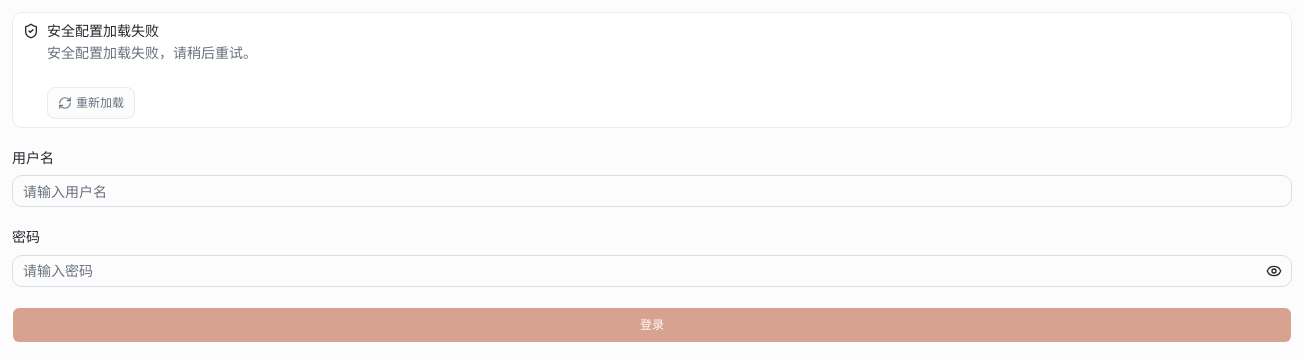
Test: AuthForm › offers a retry after the security config fails to load
Expected: the text "安全配置加载失败" is shown, [47,21,159,40]
Expected: the button "登录" is disabled, [12,306,1292,342]
Click the button "重新加载" at coordinates (91, 103), box [47,87,135,119]
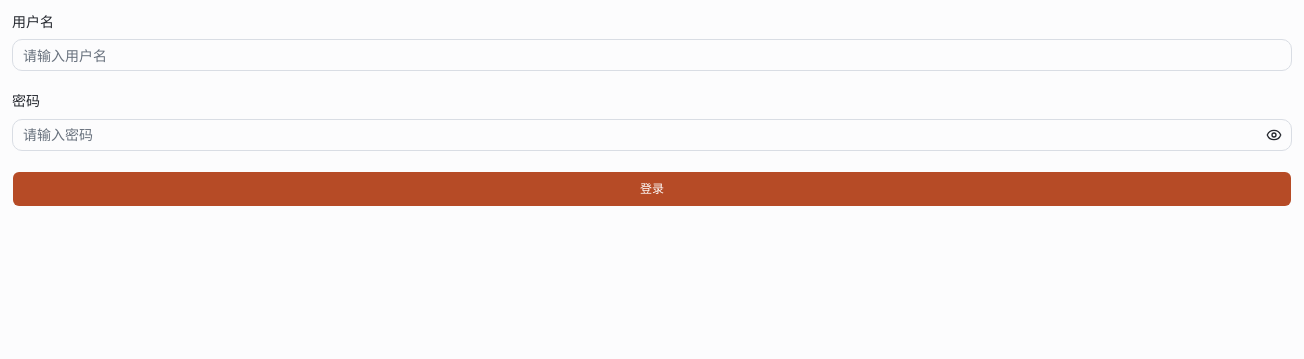
Expected: the button "登录" is enabled, [12,170,1292,206]
Expected: the text "安全配置加载失败" is gone
